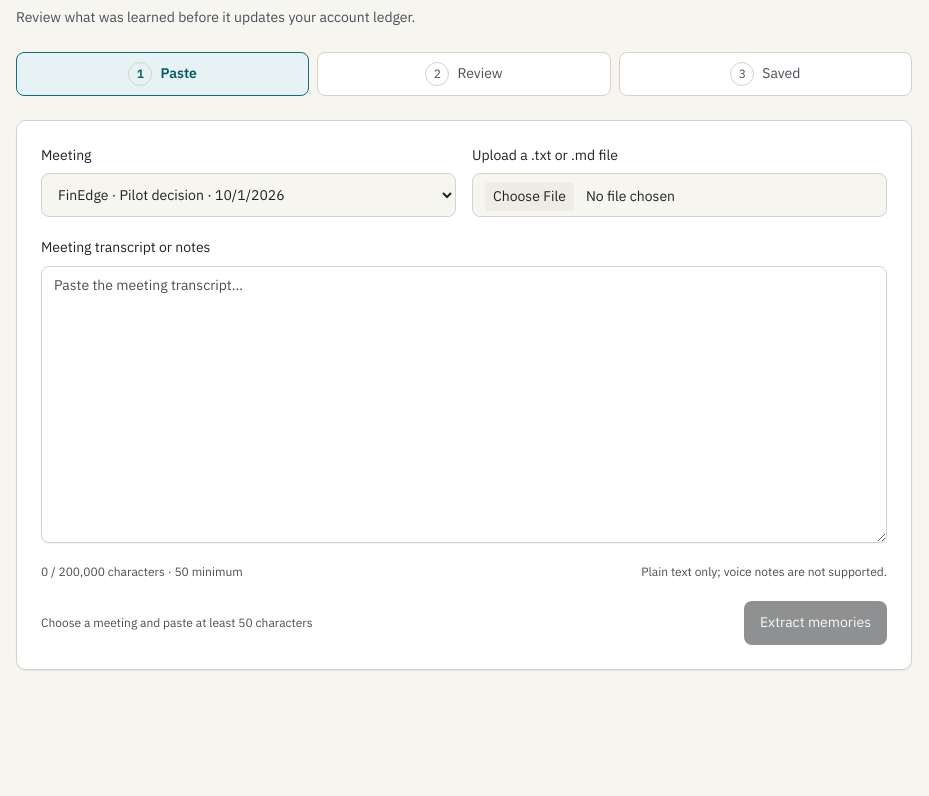
Test: Capture page › retries a memory-unavailable save with the same draft and no new preview
The width and height of the screenshot is (929, 796).
Select "FinEdge · Pilot decision · 10/1/2026" in the dropdown named "Choose meeting" at [248, 195], box [41,173,456,217]
Type "A sufficiently long test transcript with an exact quote from Anita about a revised proposal and EU hosting." into the text box labelled "Meeting transcript or notes" at [464, 405], box [41,266,887,543]
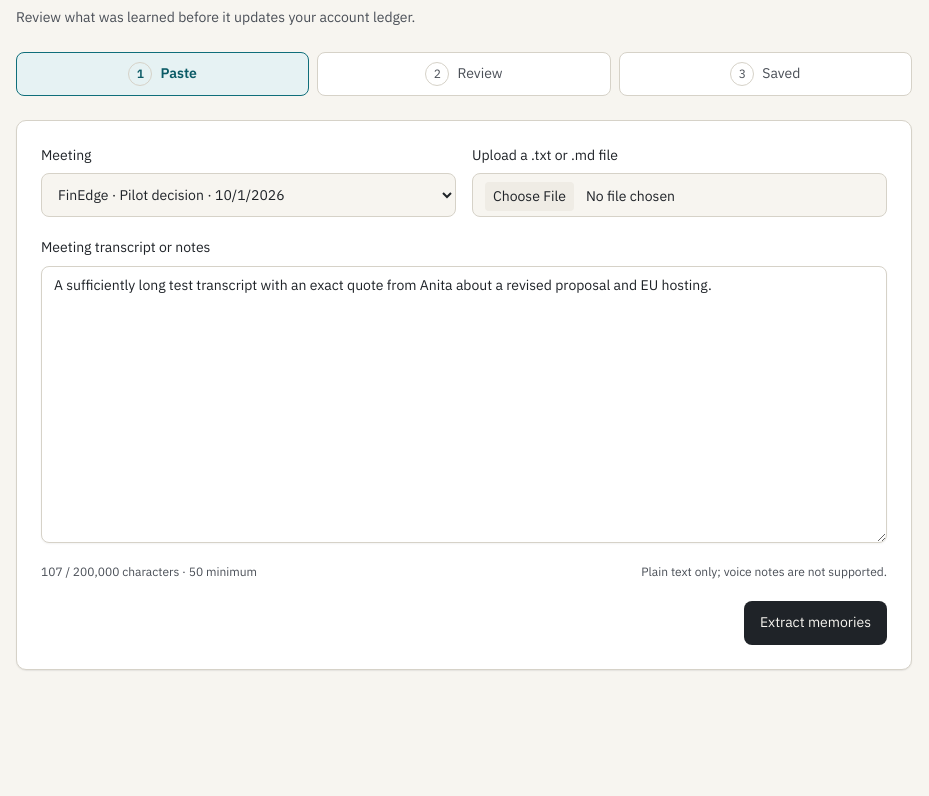
Click the button "Extract memories" at [815, 623], box [744,601,887,645]
(page scrolled)
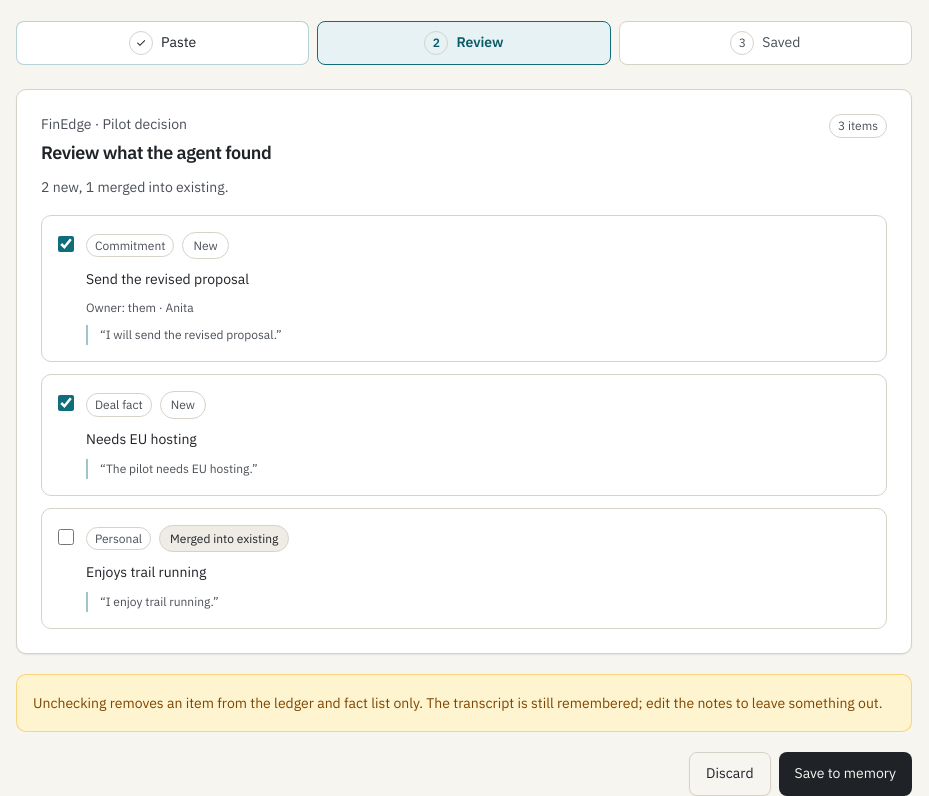
Check: the heading "Review what the agent found" is shown, box [41,140,271,165]
Click the button "Save to memory" at [845, 774], box [778,752,912,795]
(page scrolled)
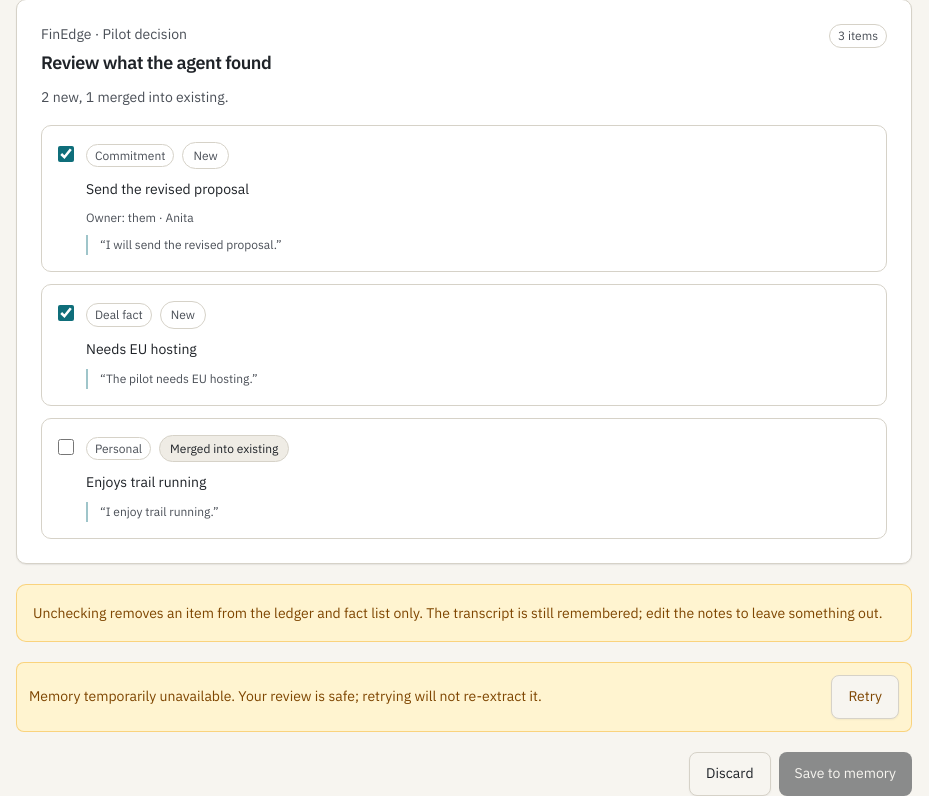
Check: the text "Memory temporarily unavailable. Your review is safe; retrying will not re-extract it." is shown, box [29,688,542,706]
Click the button "Retry" at [865, 697], box [831,675,899,719]
(page scrolled)
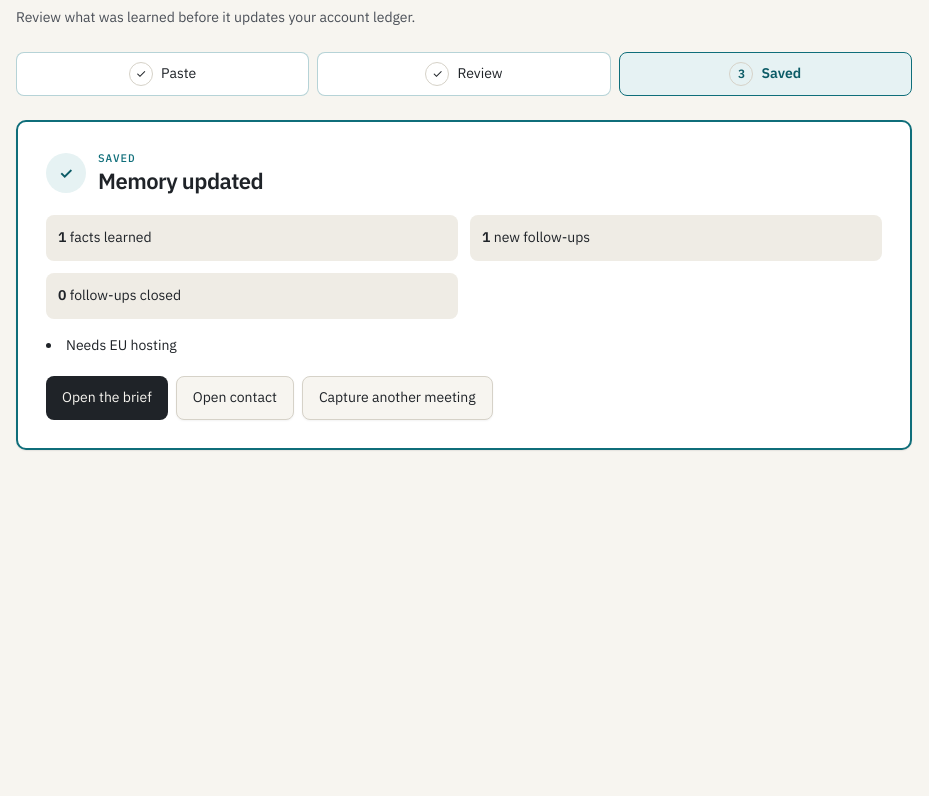
Check: the heading "Memory updated" is shown, box [98,167,263,195]
